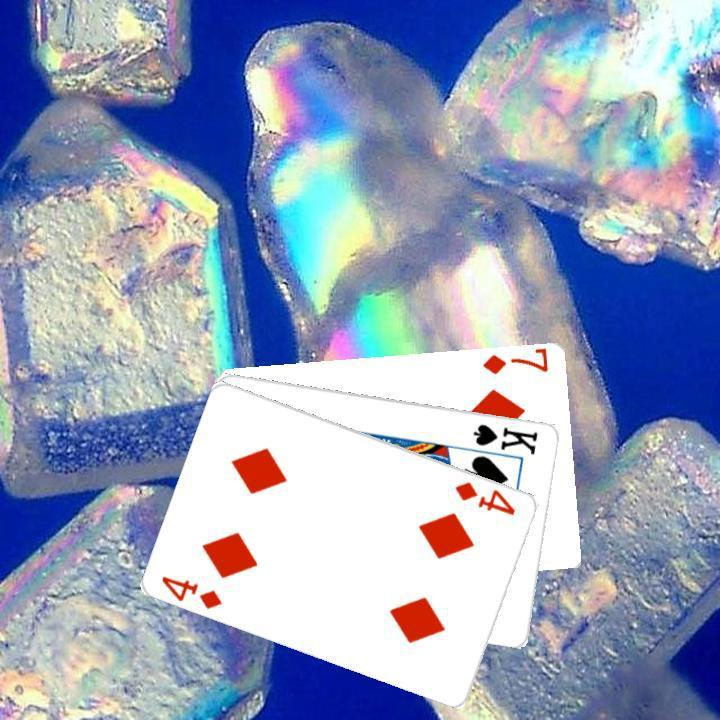4: (451, 476, 518, 517), (157, 571, 225, 611)
7: (478, 346, 551, 376)
K: (469, 419, 541, 456)
